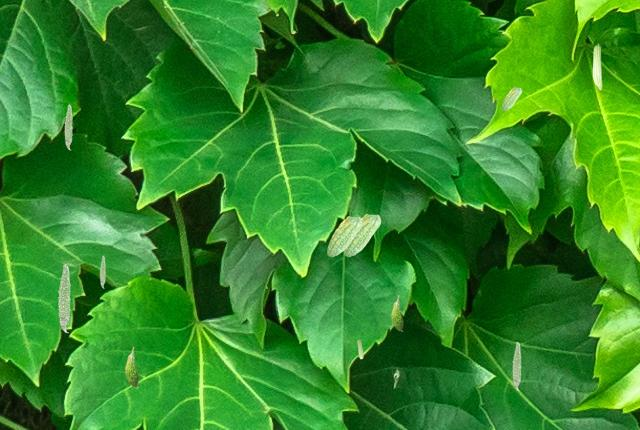ampalaya: (343, 213, 381, 257), (326, 215, 362, 257), (57, 263, 71, 333), (124, 346, 139, 388), (501, 87, 522, 111), (592, 43, 602, 90), (390, 295, 403, 331), (512, 341, 521, 391), (64, 103, 73, 150), (99, 255, 106, 289), (356, 338, 363, 359)
